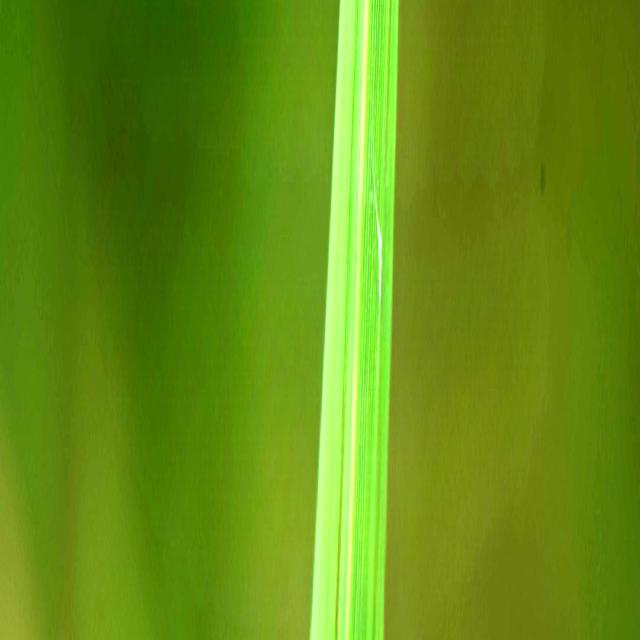BLS: (334, 297, 346, 640), (389, 0, 390, 34), (373, 624, 374, 640)
